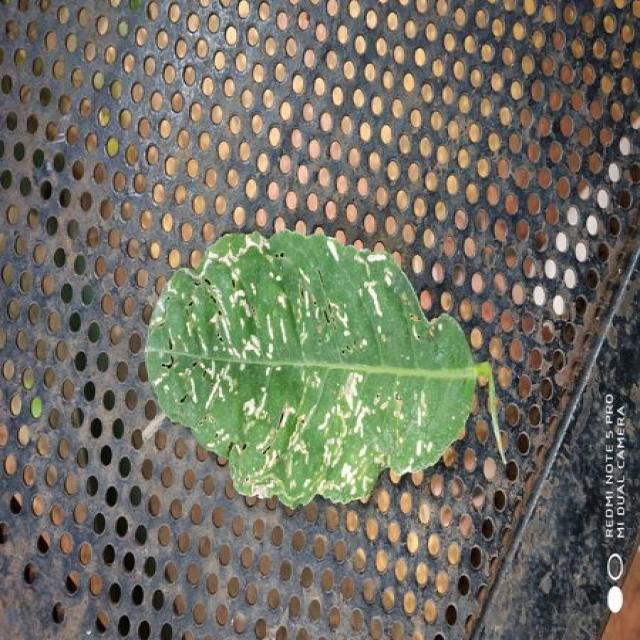badipala: (145, 231, 504, 506)
disease in leaf: (147, 231, 372, 507)
